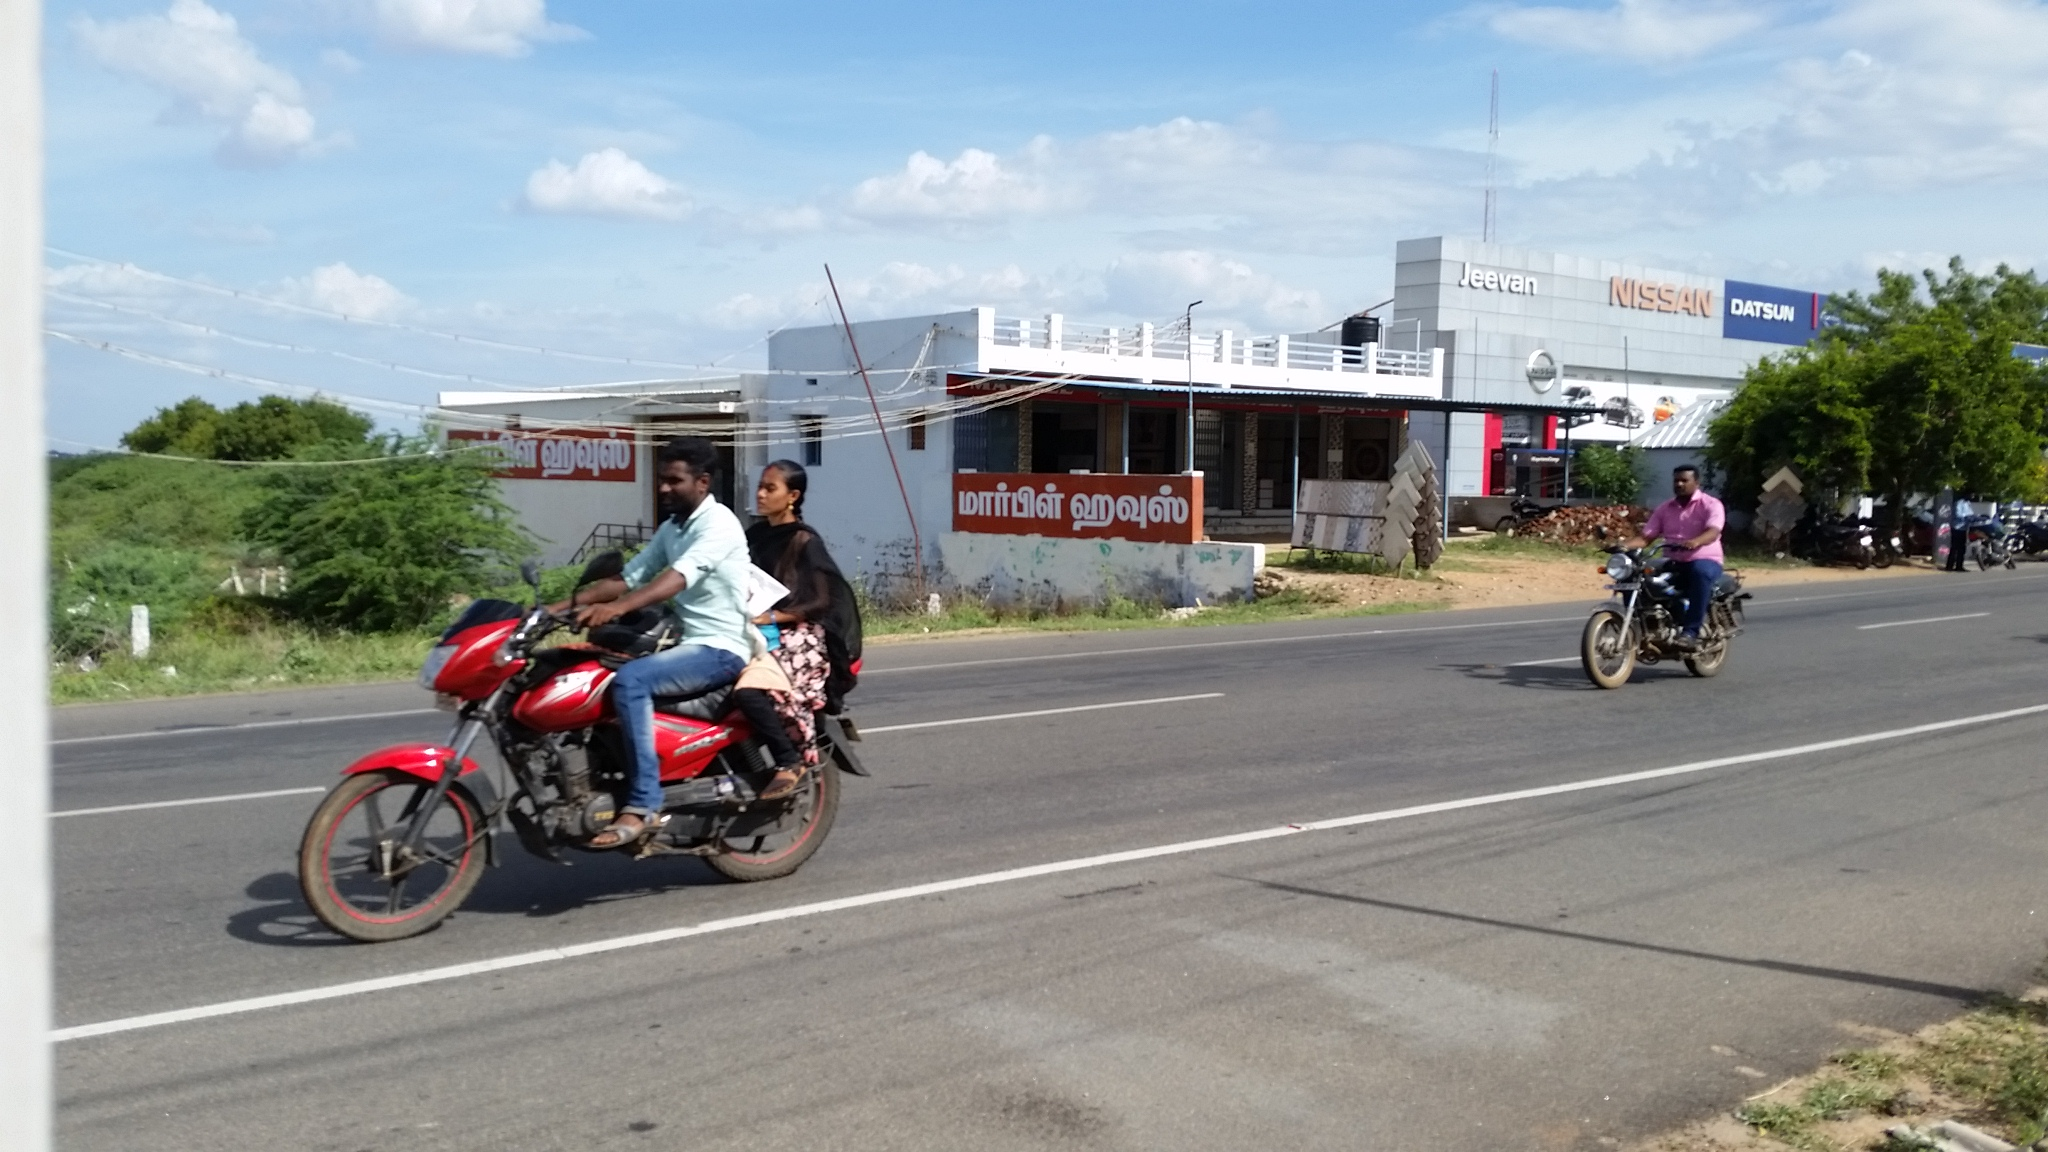biker: (269, 354, 949, 962), (1535, 390, 1792, 720)
nohelmet: (740, 444, 824, 535), (645, 441, 729, 532), (1665, 453, 1712, 518)
